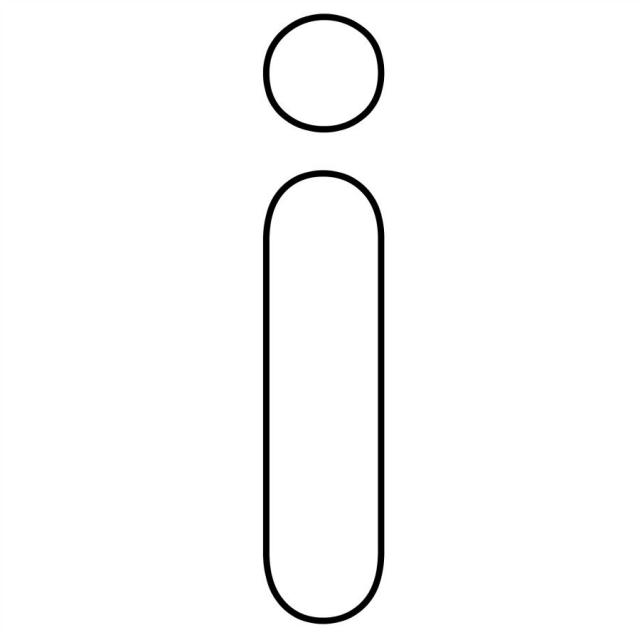I: (243, 148, 423, 636)
